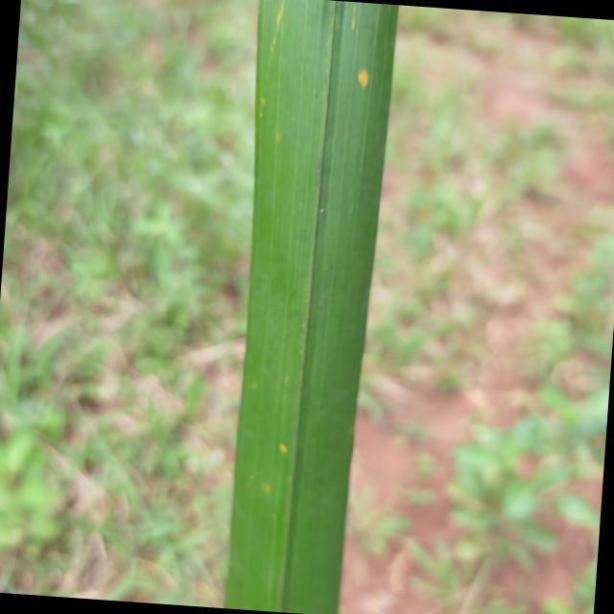Kalium: (222, 0, 398, 614)
